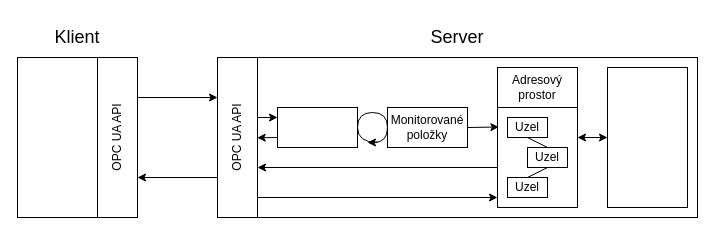
This 715x235 diagram has some shape labels left out. Here are the shapes that lost their labels. From the top down, the box of each, then its label:
(16, 56, 98, 218): Aplikace klienta
(276, 106, 358, 148): Odběr
(606, 66, 688, 208): Reálné objekty
